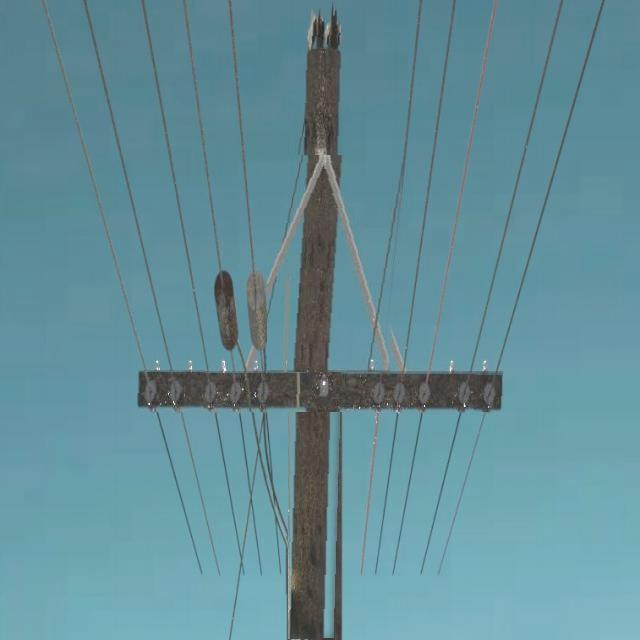crossarm: (267, 156, 393, 372), (137, 371, 505, 412)
pole: (288, 19, 347, 640)
